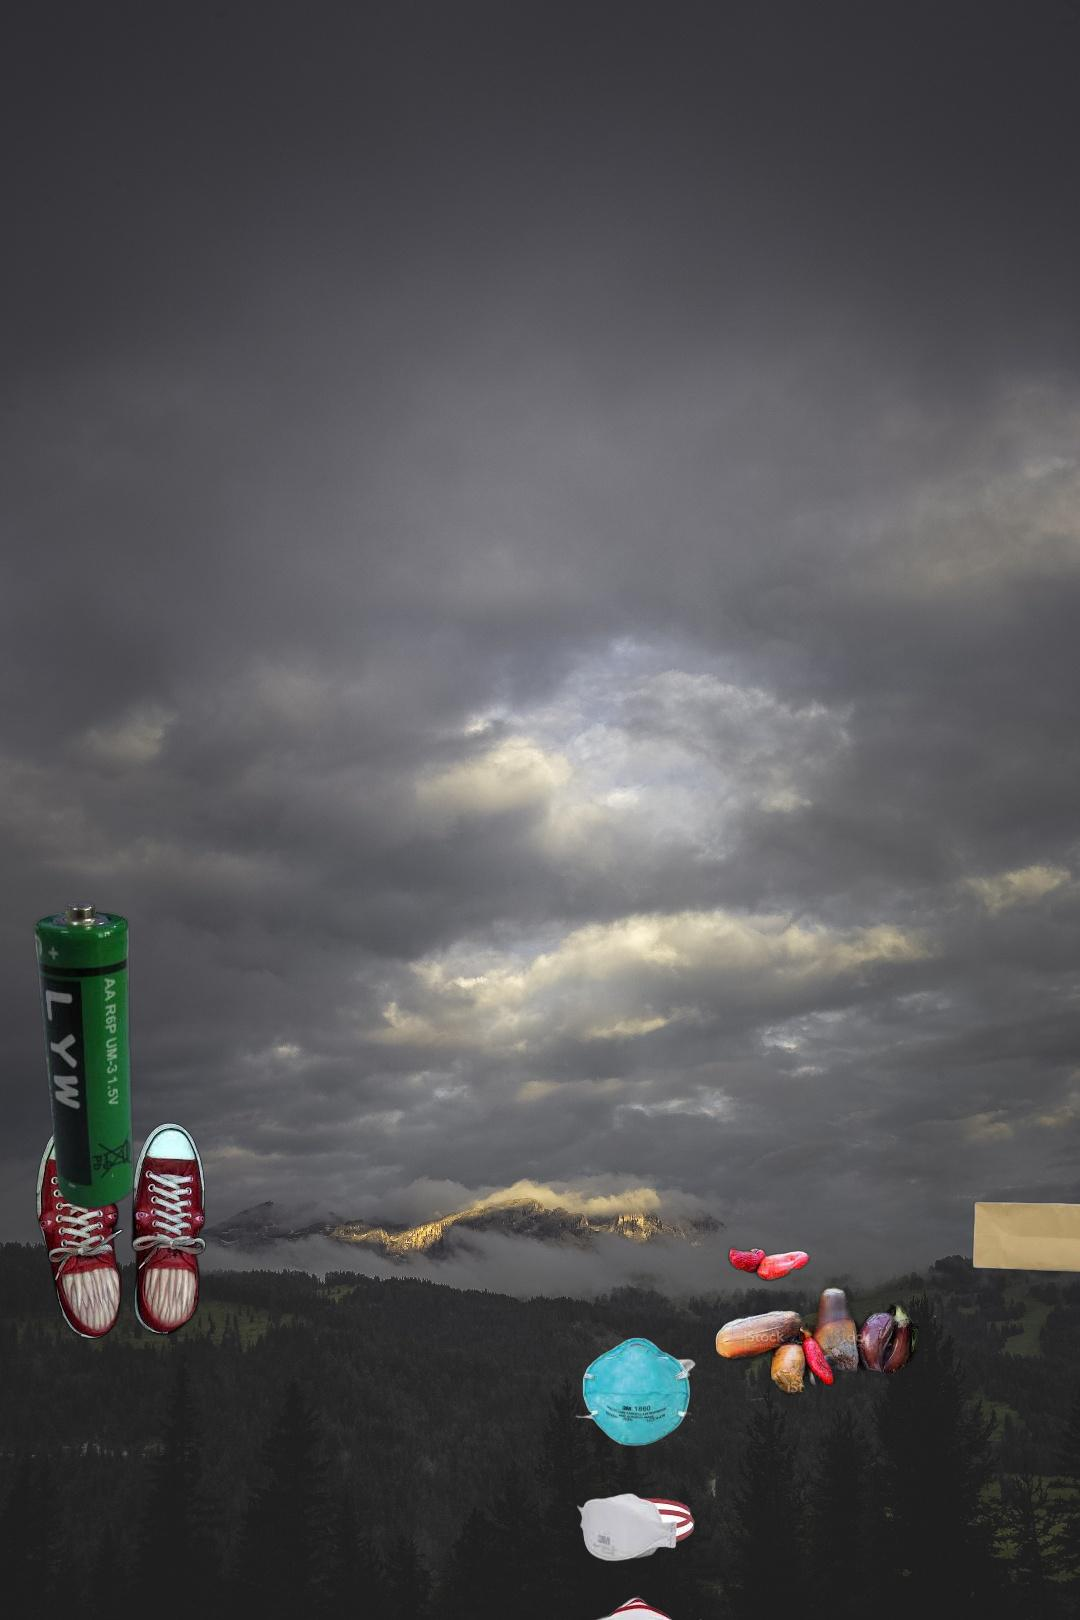battery: (31, 898, 137, 1211)
biological: (677, 1243, 925, 1403)
paper-bag: (970, 1201, 1080, 1274)
shoes: (33, 1119, 209, 1342)
trash: (567, 1334, 704, 1620)
